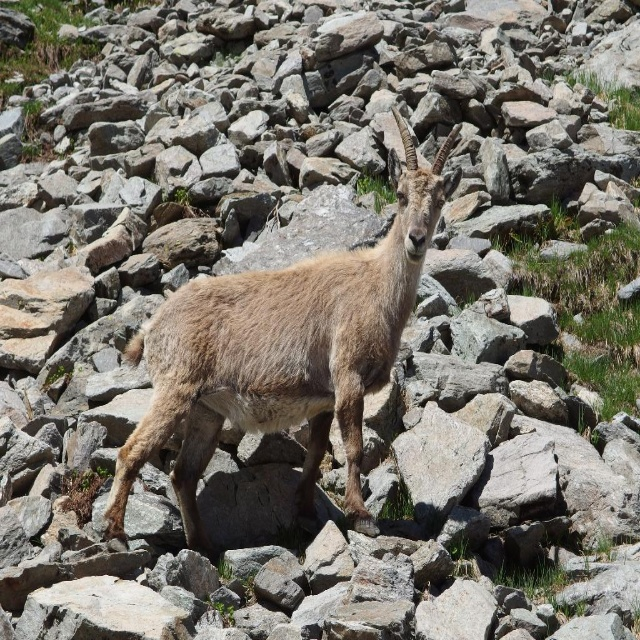Goat: (98, 145, 457, 574)
